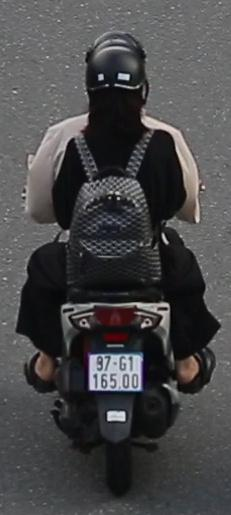LP: (86, 350, 147, 397)
helmet: (80, 29, 152, 122)
